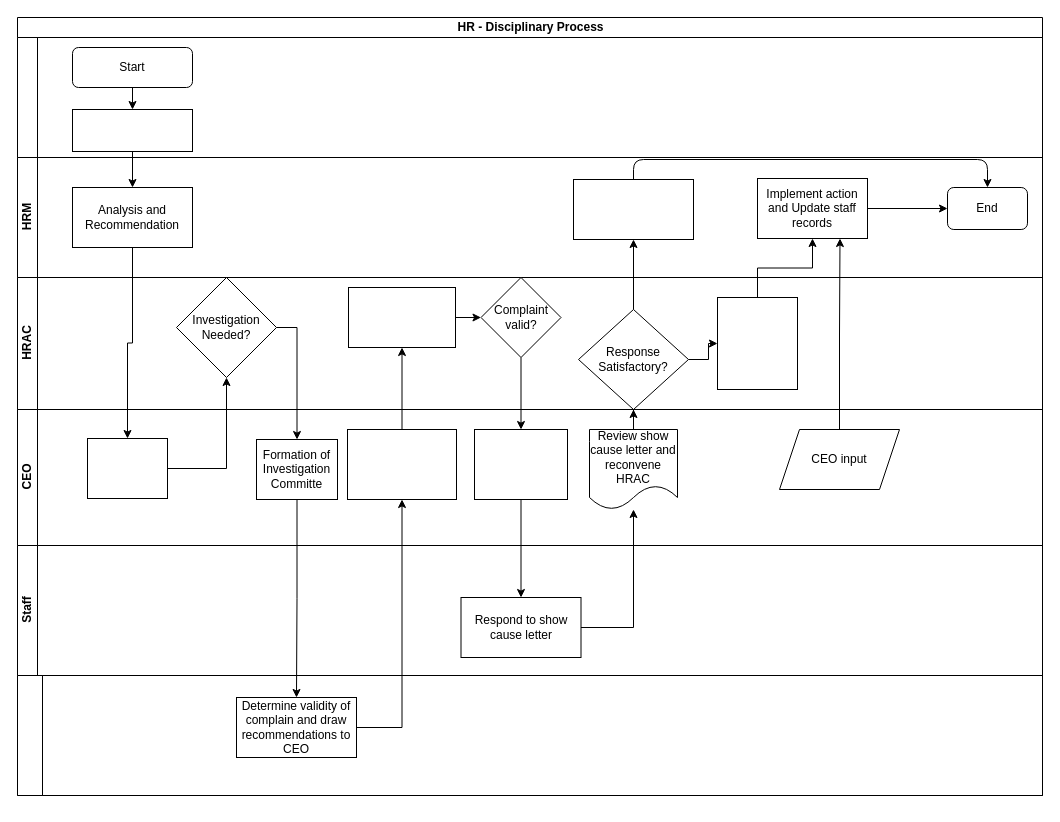
The diagram is 1060 pixels wide and 822 high, and some of its shapes have lost their labels. The shapes that lost their labels are listed below. From the top down, each one's box as (x1, y1, x2, y2) in pixels, then its label:
(16, 36, 1042, 158): HOD
(72, 108, 192, 152): Identify and communicate misconduct
(572, 178, 694, 240): Close case and notify HOD and staff
(348, 286, 456, 348): Analyze investigate report and make recommendation to CEO
(716, 296, 798, 390): Further investigations and Decide on appropriate Action
(86, 438, 168, 498): CEO Remmendation
(346, 428, 456, 500): Receives recommendation and forward to HRAC
(474, 428, 568, 500): Draft show cause letter and share with staff
(16, 674, 1042, 796): Investigation Committee
